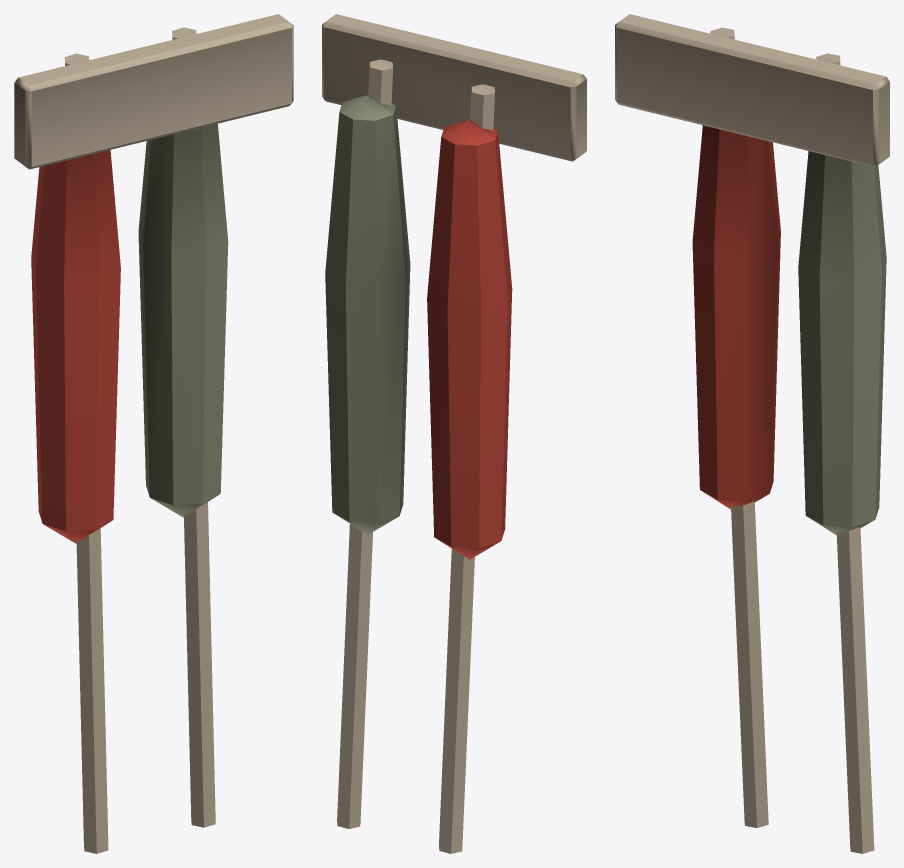
The model's file is signal_flags.glb.
The picture shows the model from 3 angles, left to right: view 1: azimuth 30°, elevation 25°; view 2: azimuth 150°, elevation 25°; view 3: azimuth 330°, elevation 25°; orthographic projection. The views are drawn at different scales.
Visible parts, largest first — view 1: static; view 2: static; view 3: static.
Part boxes in pixels (x1,y1,x2,y2): static: (14,14,293,853); static: (322,14,586,853); static: (615,14,889,853).
Size of the model in its own units: 0.2 by 0.5803 by 0.08.
